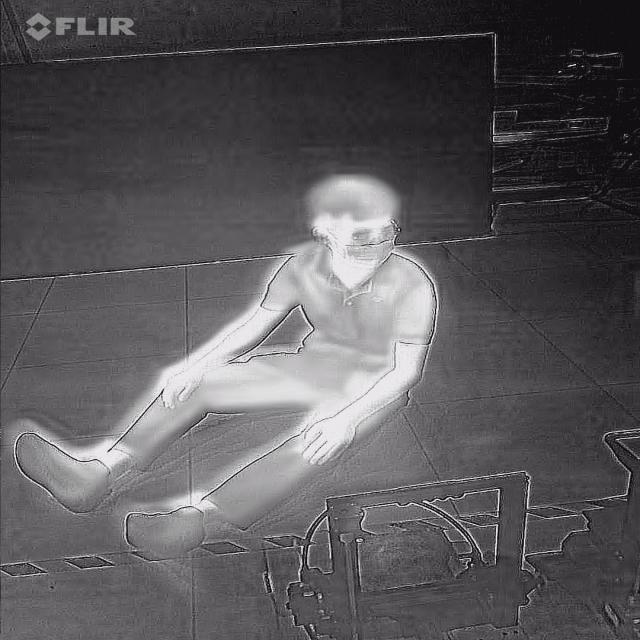Victim: (12, 171, 450, 559)
